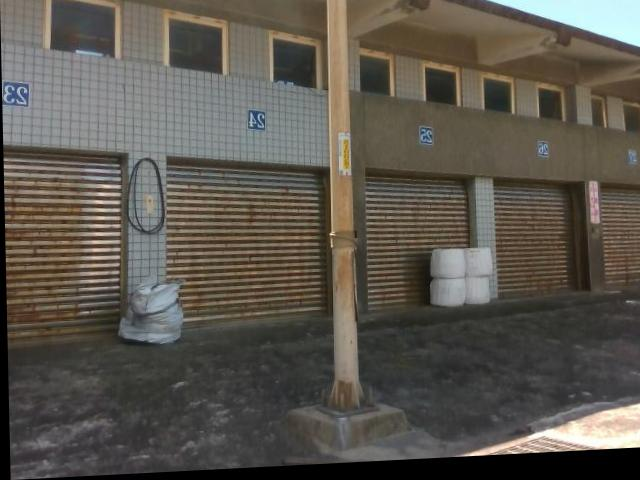pollute: (112, 278, 185, 349), (425, 250, 493, 315)
